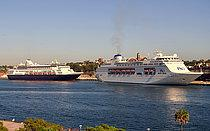Ship: (93, 49, 210, 91), (2, 56, 88, 85)
